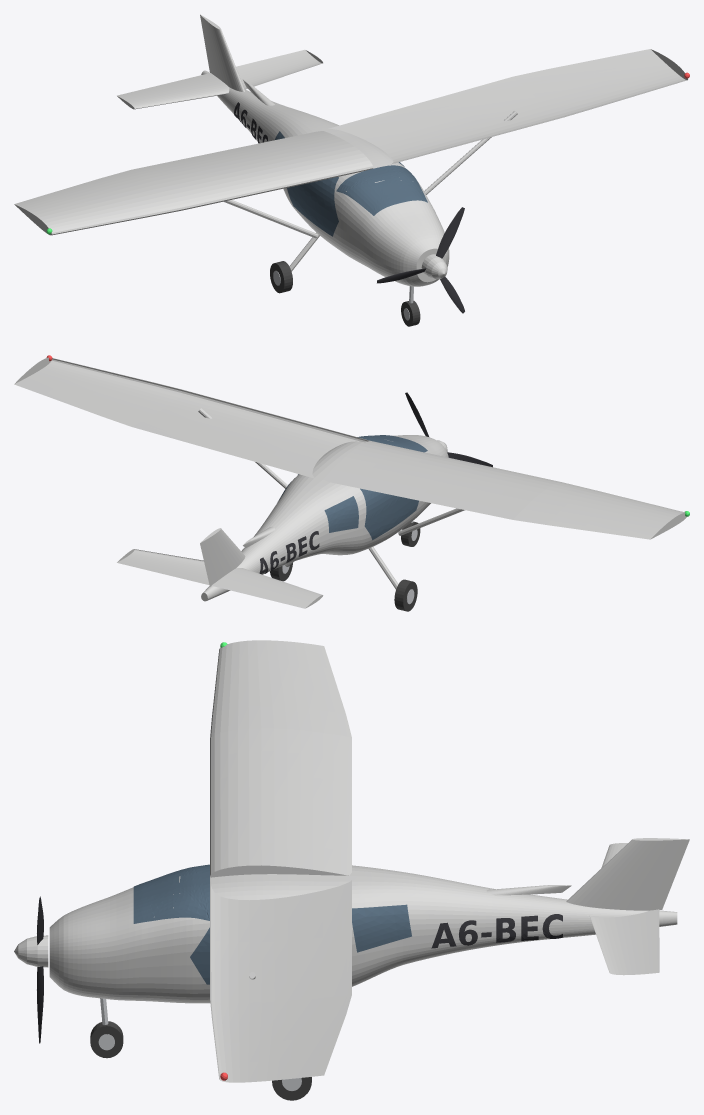
Rendered from aircraft-1.glb.
The picture shows the model from 3 angles, top to bottom: view 1: azimuth 30°, elevation 25°; view 2: azimuth 150°, elevation 25°; view 3: azimuth 270°, elevation 25°; orthographic projection. The views are drawn at different scales.
Parts seen in each view (by area): view 1: body_white, body_glass, propeller_black, body_tyre, propeller_white; view 2: body_white, body_glass, body_tyre, body_black, propeller_black; view 3: body_white, body_glass, body_black, body_tyre, propeller_white, propeller_black.
Part boxes in pixels (bbox=[...]): body_white: bbox=[14, 14, 687, 286]; body_glass: bbox=[275, 131, 427, 236]; propeller_black: bbox=[377, 207, 464, 313]; body_tyre: bbox=[270, 261, 420, 326]; propeller_white: bbox=[421, 254, 447, 279]; body_white: bbox=[14, 357, 686, 608]; body_glass: bbox=[277, 435, 427, 540]; body_tyre: bbox=[270, 521, 420, 611]; body_black: bbox=[259, 531, 319, 574]; propeller_black: bbox=[405, 392, 492, 467]; body_white: bbox=[49, 640, 689, 1082]; body_glass: bbox=[133, 864, 411, 984]; body_black: bbox=[431, 914, 562, 948]; body_tyre: bbox=[90, 1021, 311, 1100]; propeller_white: bbox=[14, 935, 48, 967]; propeller_black: bbox=[37, 896, 43, 1043].
Bounding box in the file's own units: 9.55 × 2.22 × 6.29.
